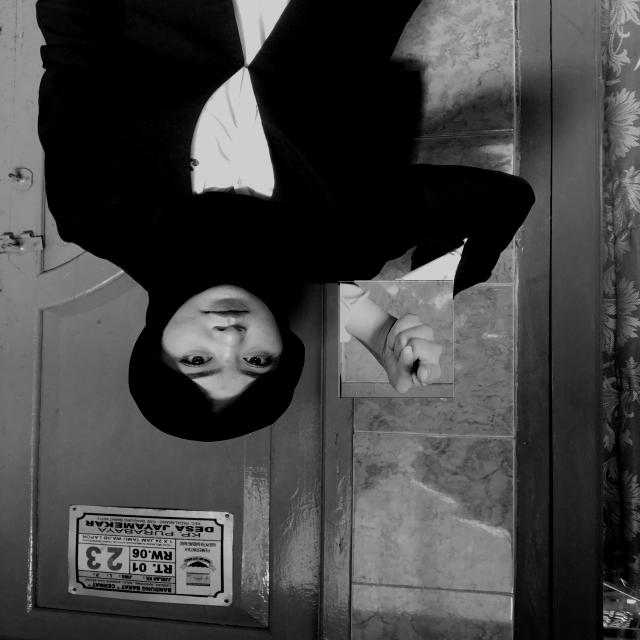kamu: (338, 280, 454, 396)
